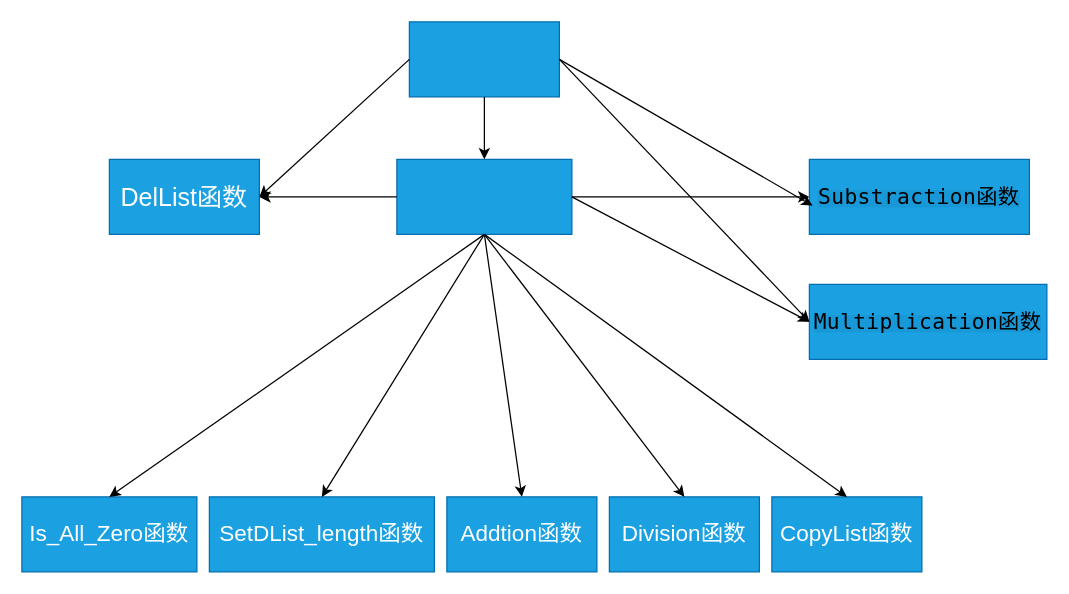
Image size: 1069x594. Some labels were removed from this diagram. Here are the shapes that lost their labels. From the top down, the centre of each, then its label:
pixel 483 59: main函数
pixel 484 196: calcArctan函数
